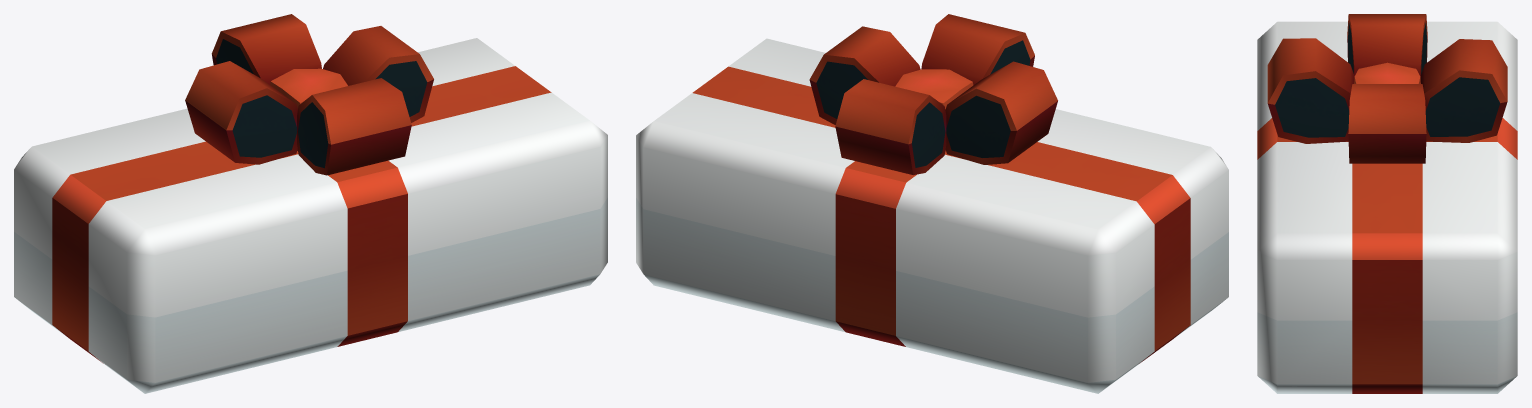
The model's file is presi_square_3_white.fbx.
The picture shows the model from 3 angles, left to right: view 1: azimuth 30°, elevation 25°; view 2: azimuth 150°, elevation 25°; view 3: azimuth 270°, elevation 25°; orthographic projection. The views are drawn at different scales.
Parts seen in each view (by area): view 1: presi_square_3_white; view 2: presi_square_3_white; view 3: presi_square_3_white.
Boxes of the visible parts, x1,y1,x2,y2 form: presi_square_3_white: (14,14,607,393); presi_square_3_white: (636,14,1228,393); presi_square_3_white: (1257,14,1517,393).
Size of the model in its own units: 156 by 74 by 75.
1 material, 1 textured.
